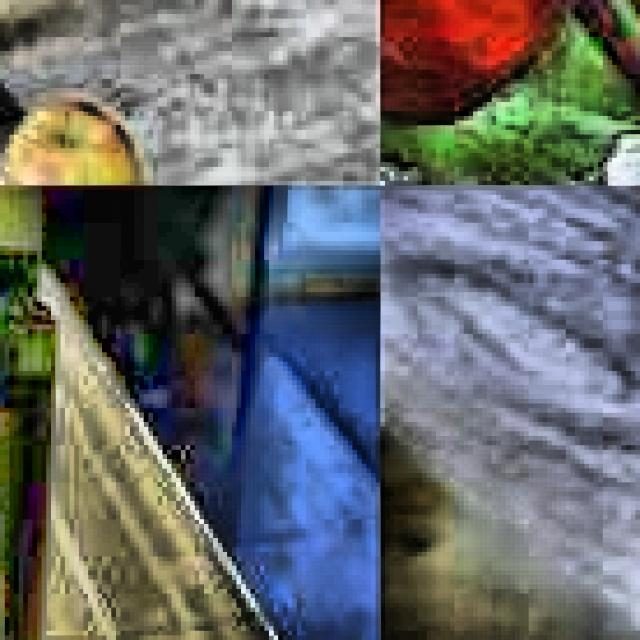onion: (381, 185, 640, 640)
